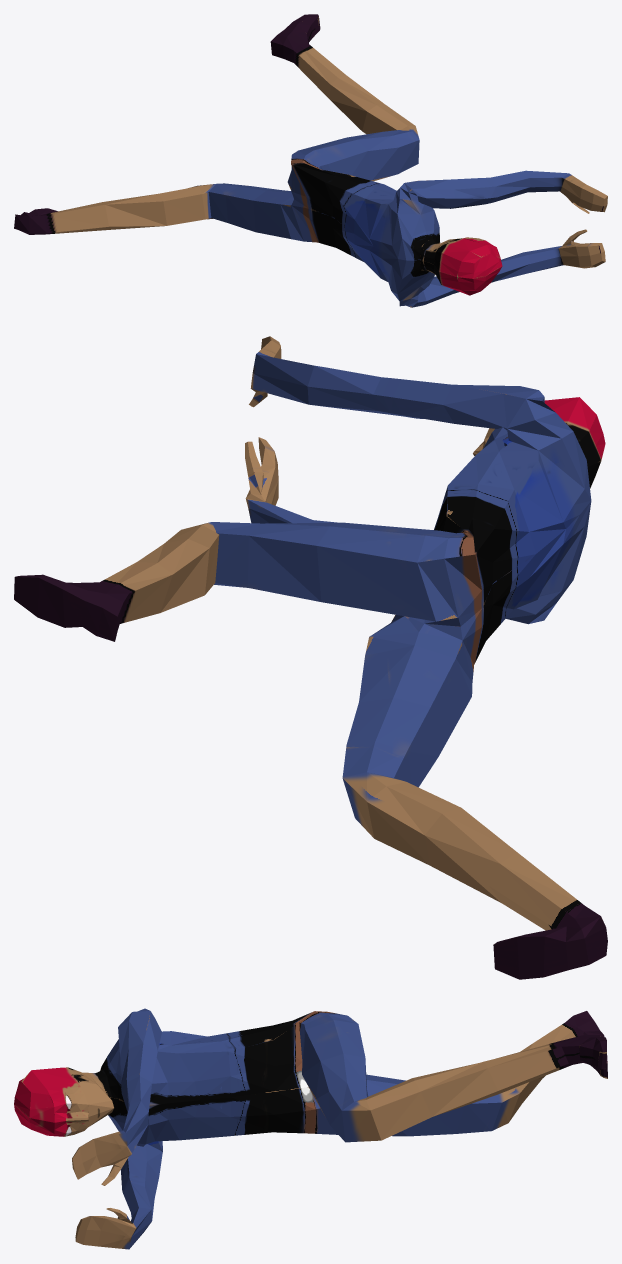
File: mirrorman_000020.obj
3 views of the same model, one above another, from view 1: azimuth 30°, elevation 25°; view 2: azimuth 150°, elevation 25°; view 3: azimuth 270°, elevation 25° (orthographic). The views are drawn at different scales.
Parts seen in each view (by area): view 1: mirrorman_Cube.001_Material.001; view 2: mirrorman_Cube.001_Material.001; view 3: mirrorman_Cube.001_Material.001.
Boxes of the visible parts, x1,y1,x2,y2 form: mirrorman_Cube.001_Material.001: [14, 14, 607, 307]; mirrorman_Cube.001_Material.001: [14, 336, 607, 979]; mirrorman_Cube.001_Material.001: [14, 1008, 607, 1249].
Bounding box in the file's own units: 1.44 × 0.5394 × 1.5.
Materials: 1 (1 with a texture image).
